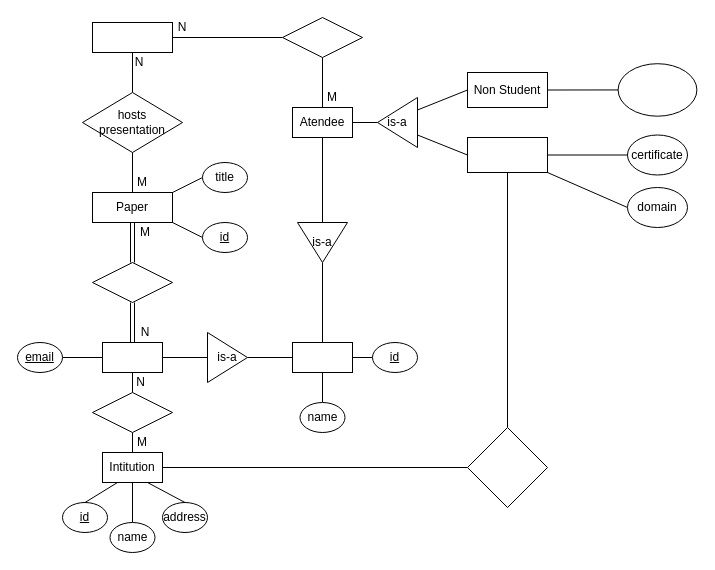
Some shapes in this 715 by 570 pixel diagram are drawn without their labels. The centre of each missing label's shape, as x and y in pixels:
"attended by" goes at pixel 322 37.
"Author" goes at pixel 132 357.
"belongs to" goes at pixel 132 412.
"Conference" goes at pixel 132 37.
"emits" goes at pixel 507 467.
"Person" goes at pixel 322 357.
"Student" goes at pixel 507 154.
"transaction reference" goes at pixel 657 89.
"written by" goes at pixel 132 282.
